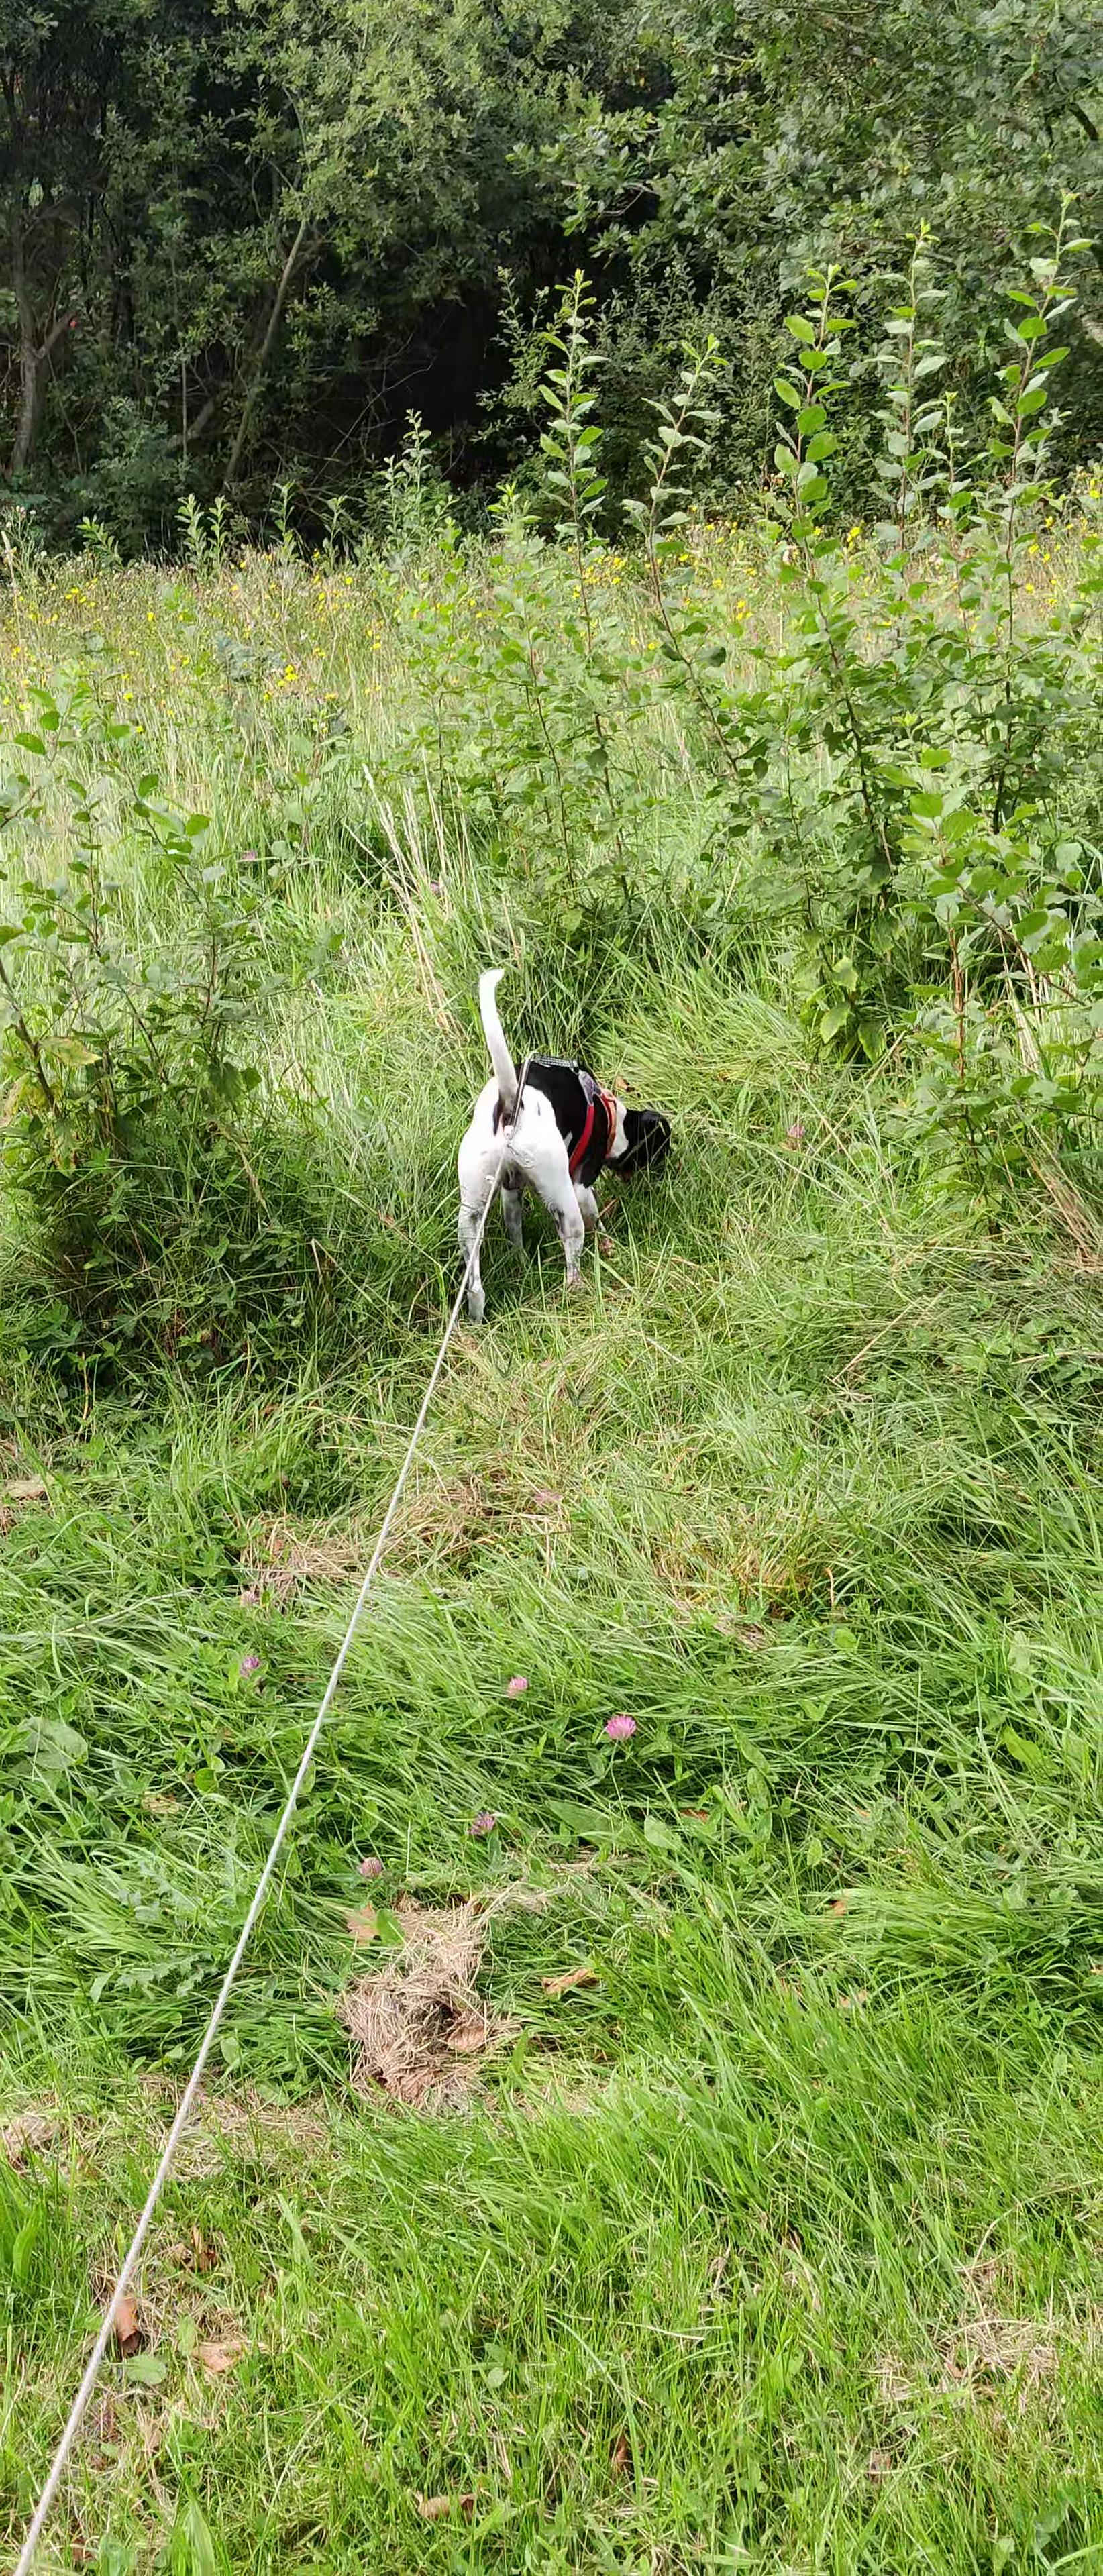Dog: (434, 953, 682, 1336)
